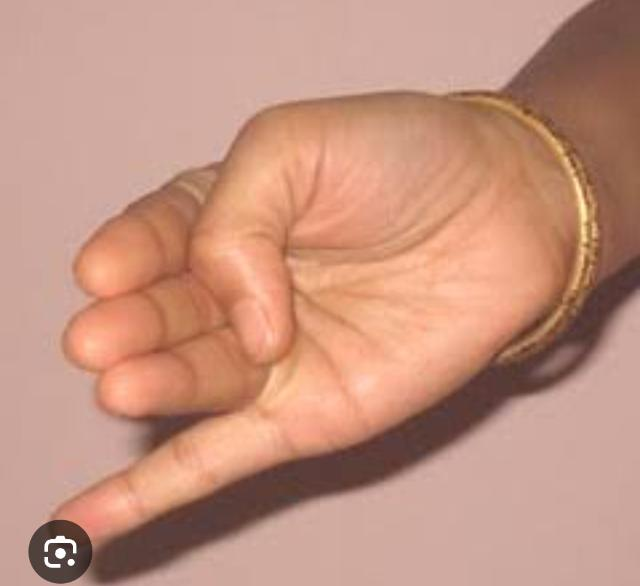chatur: (27, 91, 587, 539)
